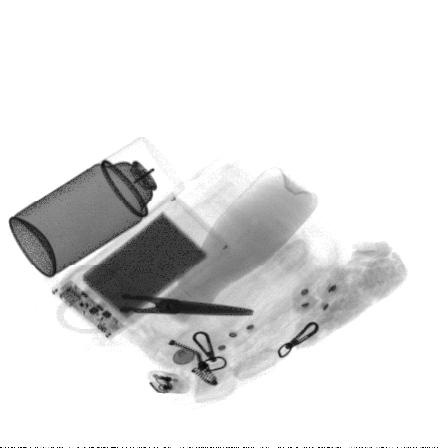Lighter: (149, 370, 190, 395)
Powerbank: (52, 194, 233, 341)
Scissors: (50, 262, 256, 336)
Sprayer: (9, 137, 185, 277)
